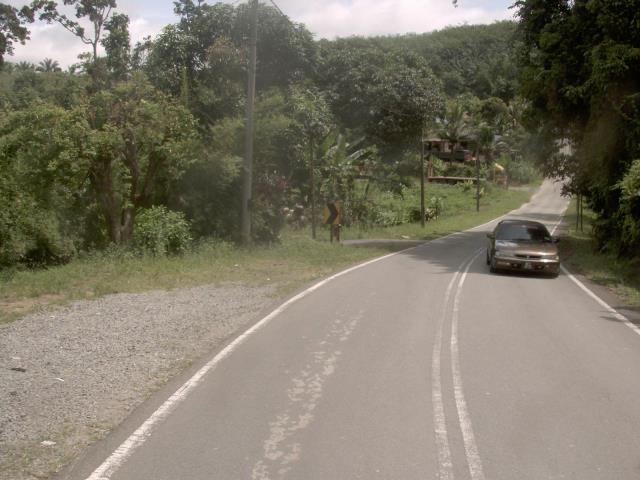traffic_sign: (319, 195, 347, 236)
